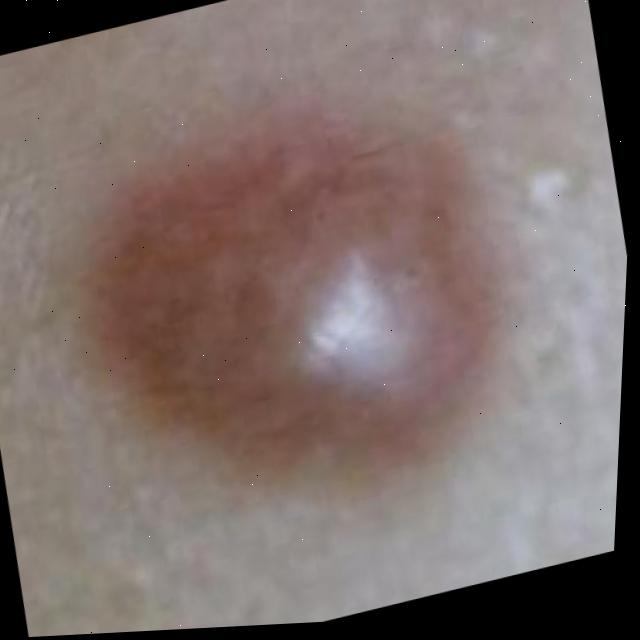Eczema: (100, 141, 488, 489)
